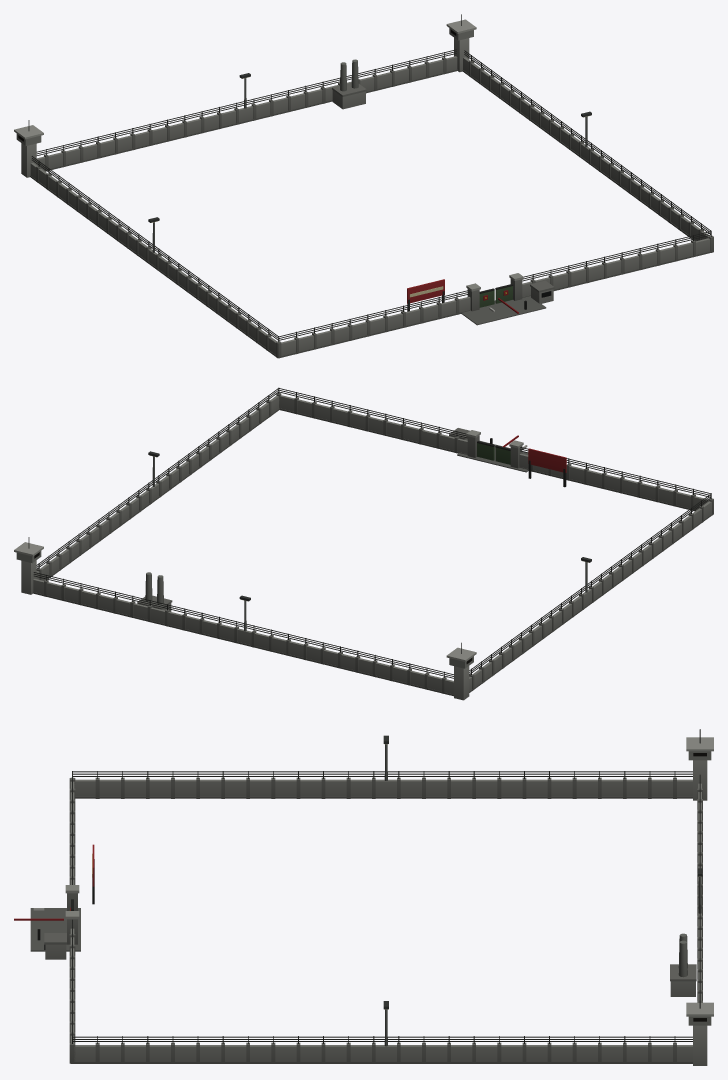
3 views of the same model, one above another, from view 1: azimuth 30°, elevation 25°; view 2: azimuth 150°, elevation 25°; view 3: azimuth 270°, elevation 25° (orthographic). The views are drawn at different scales.
Parts seen in each view (by area): view 1: mesh; view 2: mesh; view 3: mesh.
Part boxes in pixels (x1,y1,x2,y2): mesh: [14, 14, 713, 358]; mesh: [14, 387, 713, 700]; mesh: [14, 729, 713, 1065].
Bounding box in the file's own units: 156 × 18 × 167.
